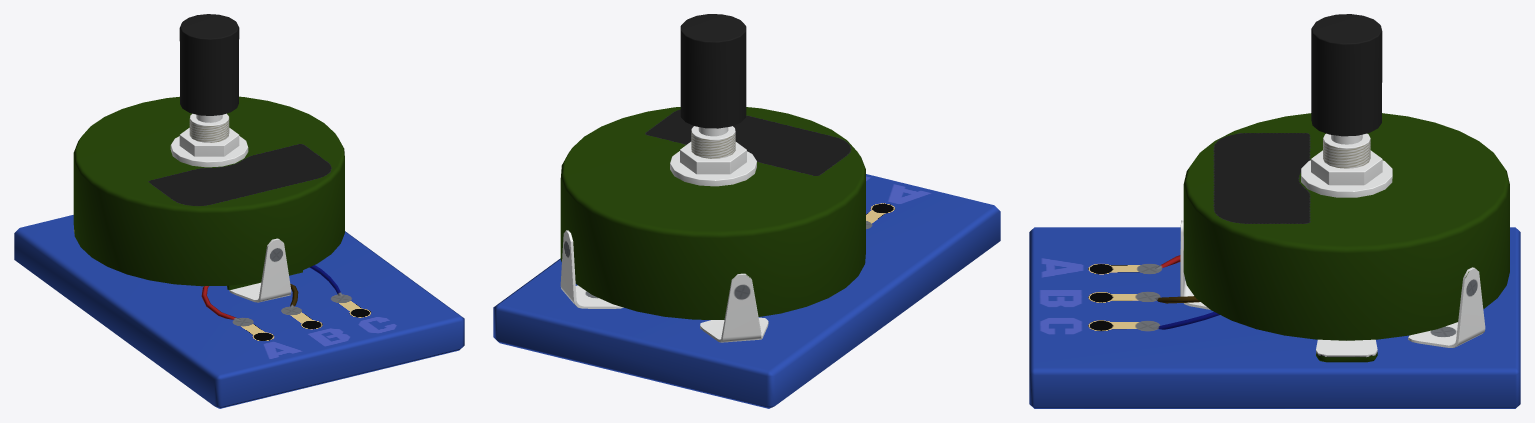
The model's file is Reohord (2).fbx.
The picture shows the model from 3 angles, left to right: view 1: azimuth 30°, elevation 25°; view 2: azimuth 150°, elevation 25°; view 3: azimuth 270°, elevation 25°; orthographic projection. The views are drawn at different scales.
Visible parts, largest first — view 1: Reohord, Knob; view 2: Reohord, Knob; view 3: Reohord, Knob.
Boxes of the visible parts, x1,y1,x2,y2 form: Reohord: [14, 96, 464, 408]; Knob: [179, 14, 239, 122]; Reohord: [493, 107, 1000, 408]; Knob: [680, 14, 746, 136]; Reohord: [1029, 113, 1520, 408]; Knob: [1311, 14, 1382, 362].
Size of the model in its own units: 5.69 by 5.62 by 8.06.
